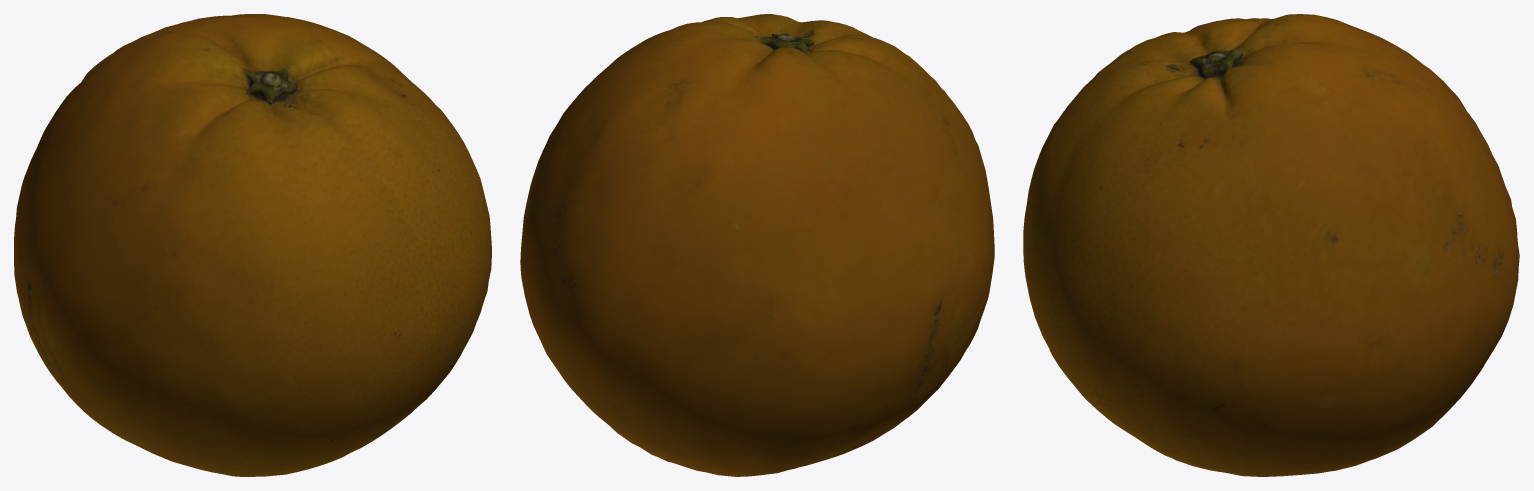
Rendered from seedless_mandarine.glb.
3 views of the same model, side by side, from view 1: azimuth 30°, elevation 25°; view 2: azimuth 150°, elevation 25°; view 3: azimuth 270°, elevation 25° (orthographic).
Parts seen in each view (by area): view 1: Object_2; view 2: Object_2; view 3: Object_2.
Part boxes in pixels (x1=…): Object_2: x1=14, y1=14, x2=491, y2=476; Object_2: x1=520, y1=14, x2=994, y2=476; Object_2: x1=1023, y1=14, x2=1519, y2=476.
Bounding box in the file's own units: 0.127 × 0.1188 × 0.1312.
Materials: 1 (1 with a texture image).
